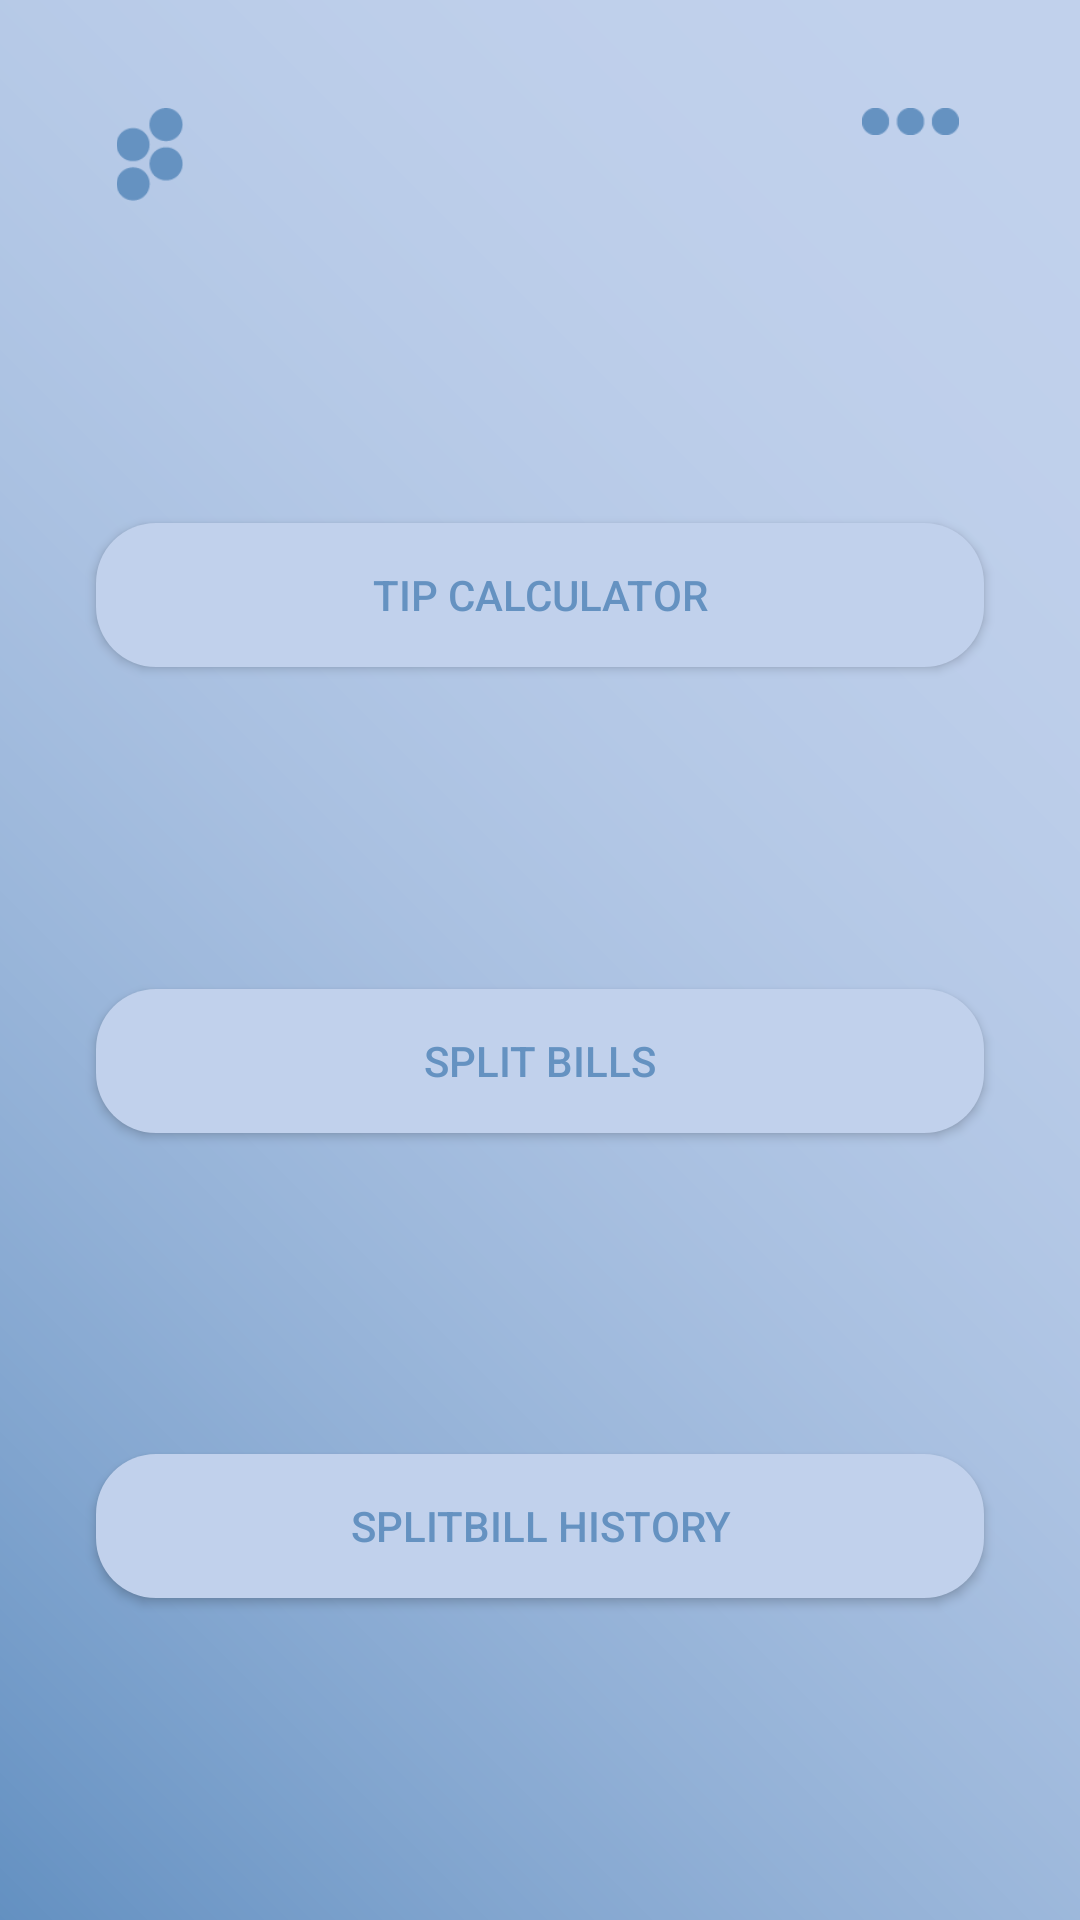

Where icons sit on this 1080px×1920px app screen, as (x1, y1, x2, y2):
dots: (117, 108, 183, 201), (862, 108, 959, 135)
